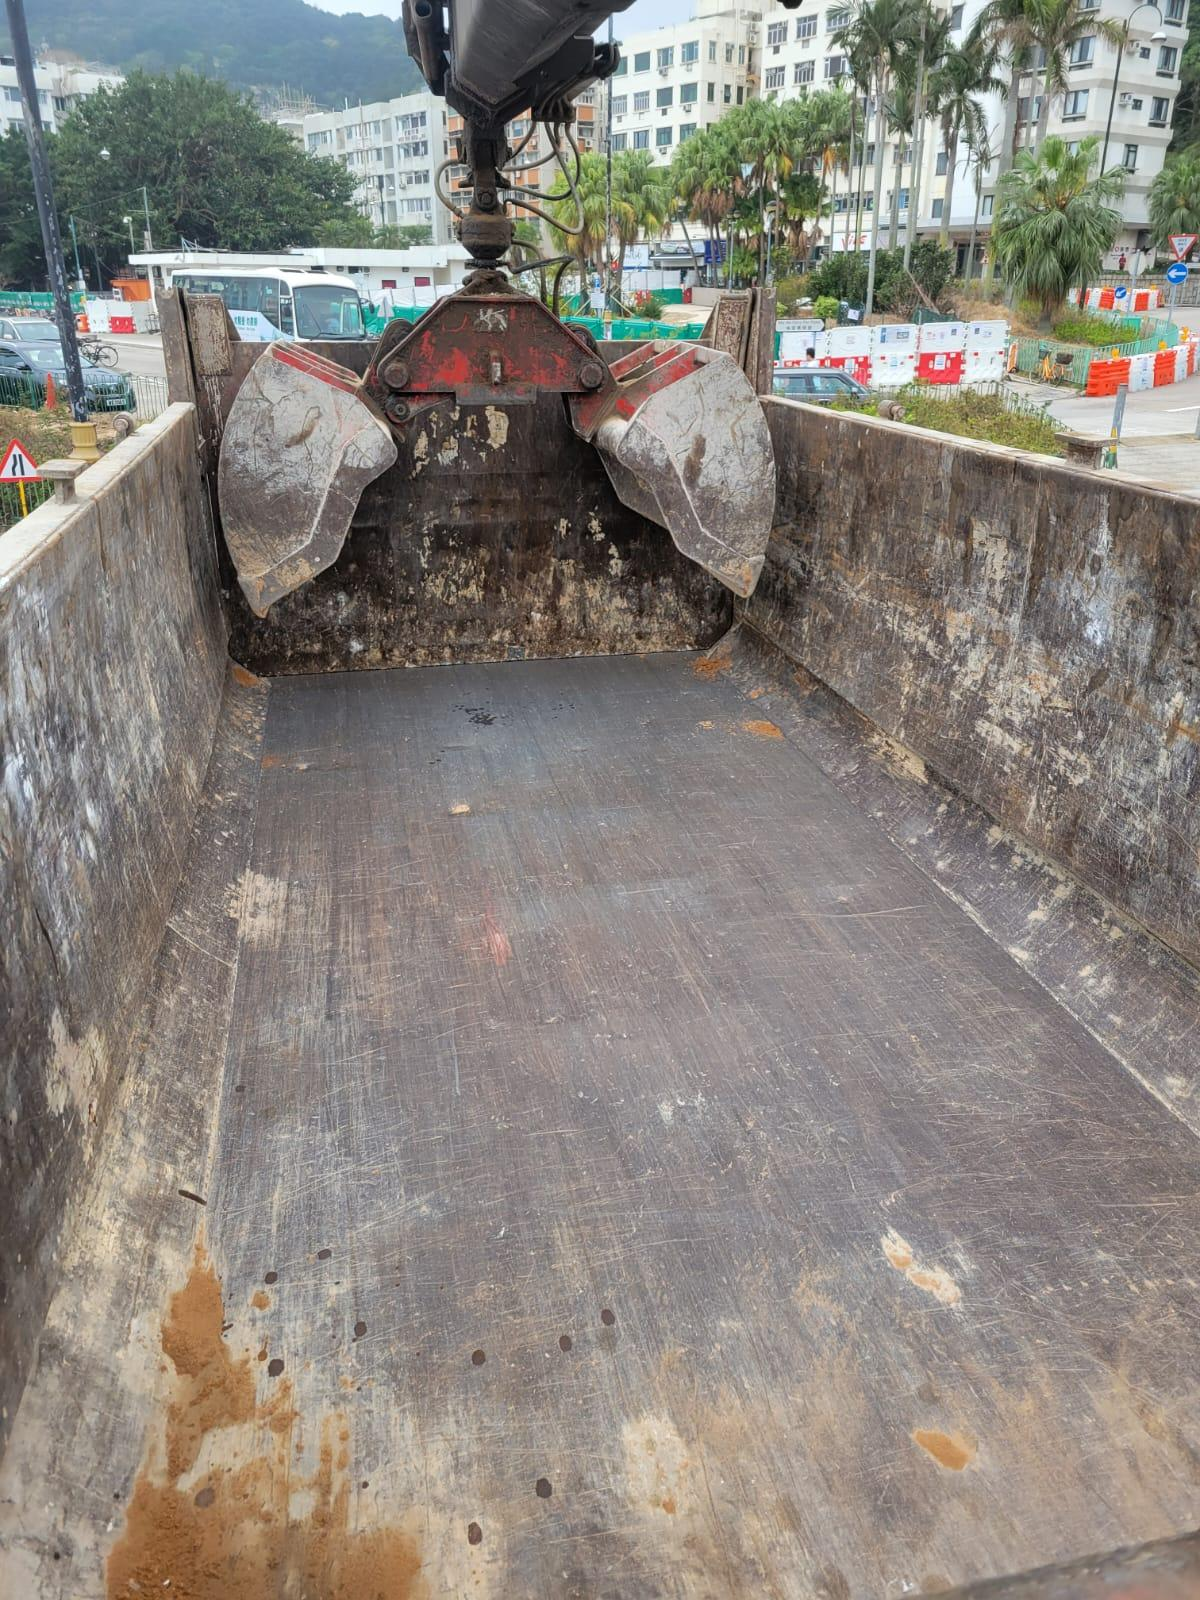nothing: (175, 645, 1200, 1600)
